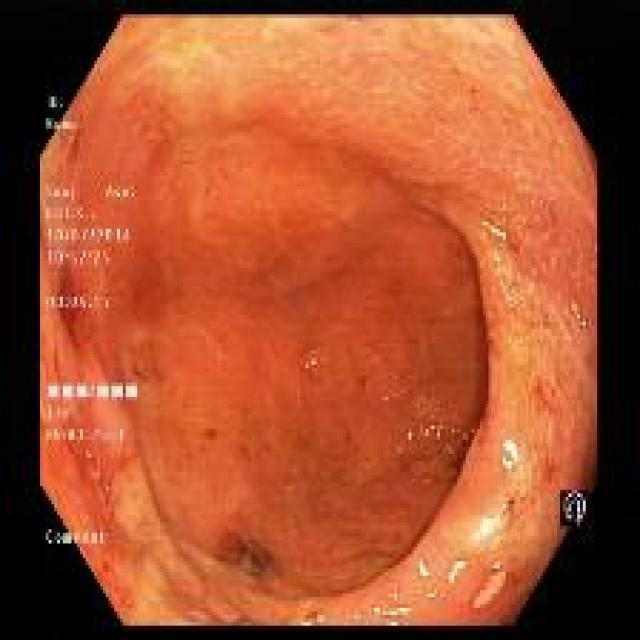ulcerative-colitis: (40, 17, 598, 623)
